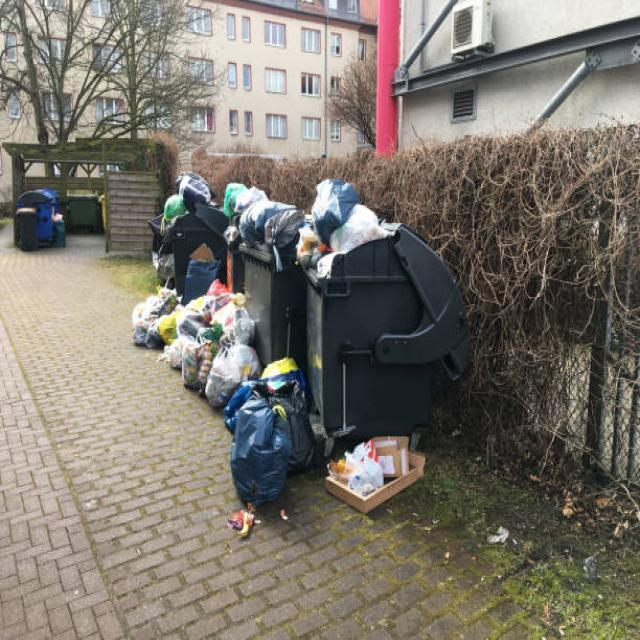cardboard: (332, 434, 432, 512)
trash: (116, 178, 335, 478)
